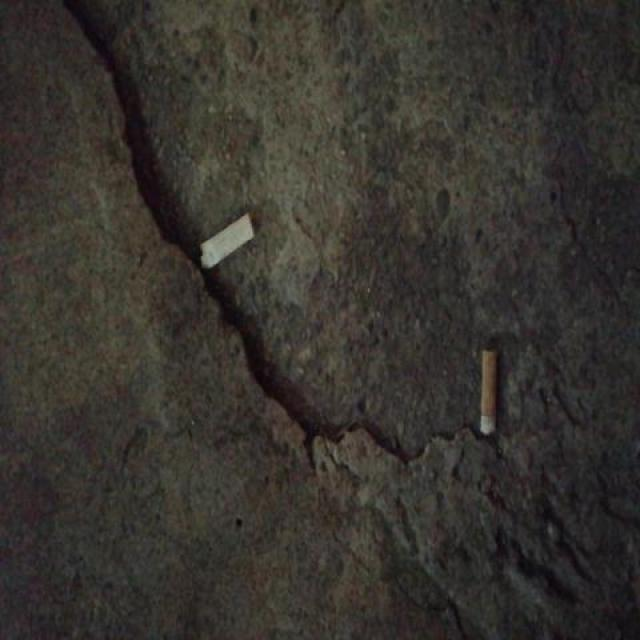non-organic waste: (198, 208, 258, 276), (474, 344, 502, 440)
